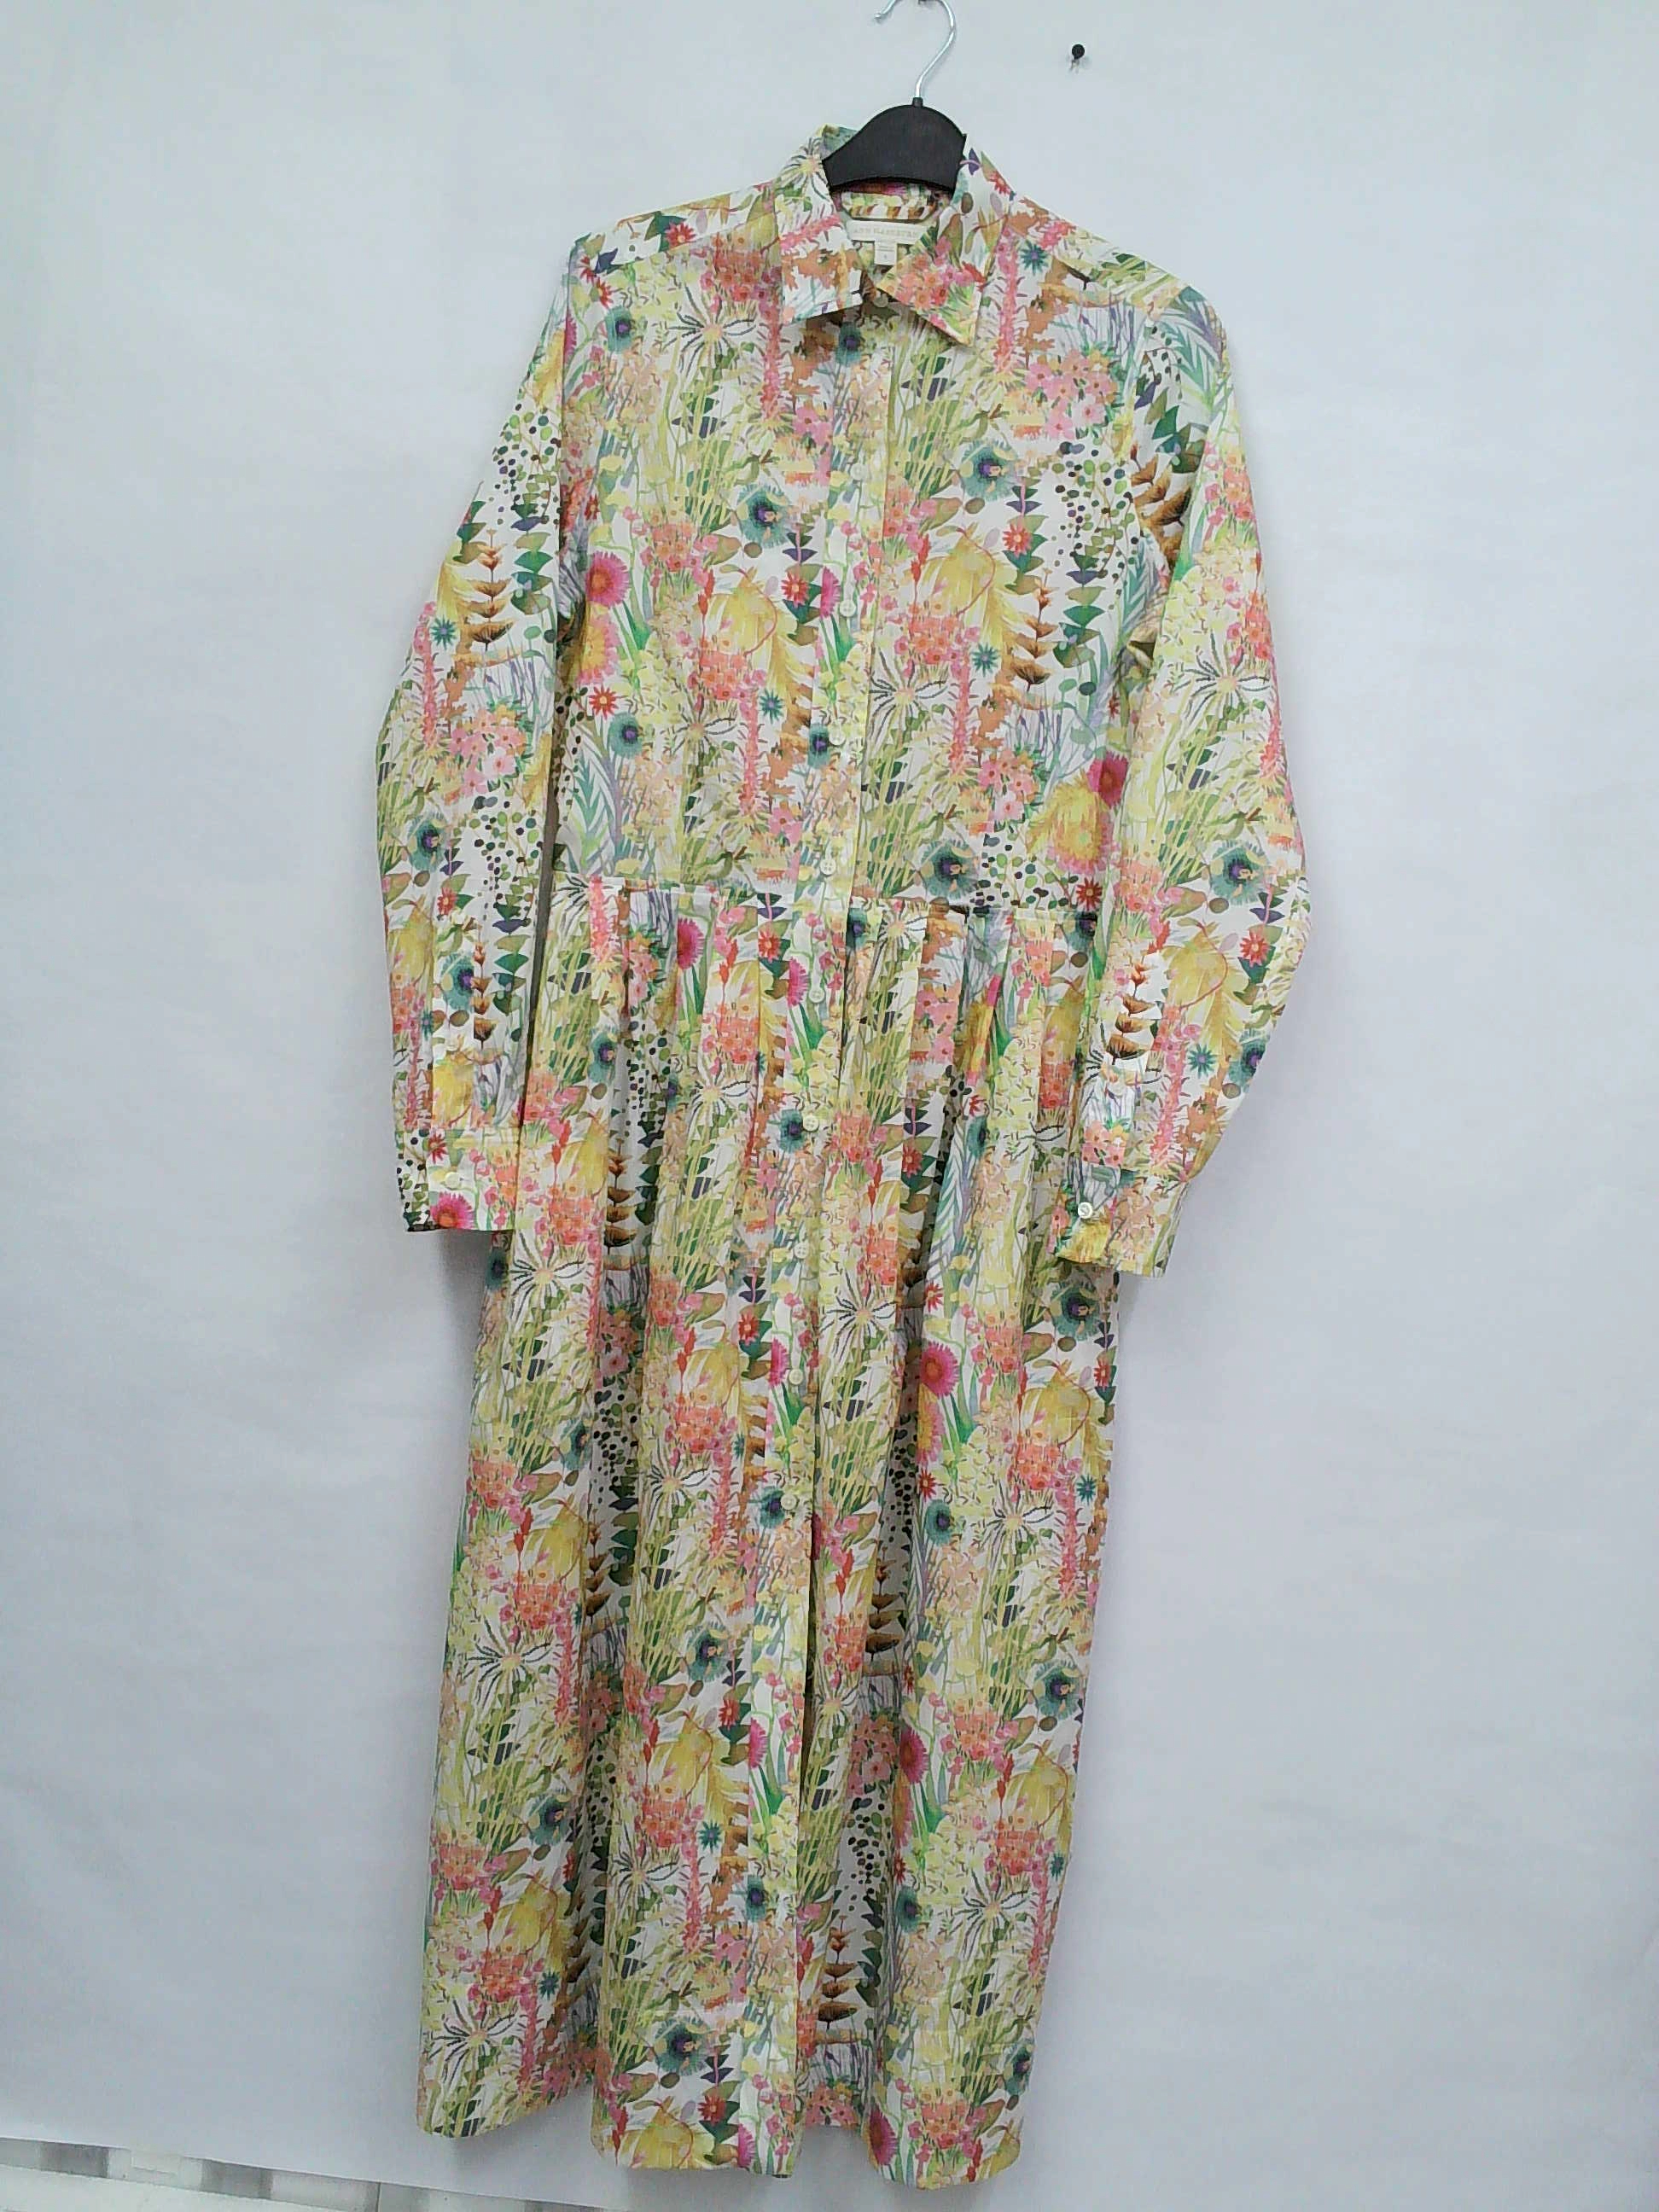seam: (680, 1952, 819, 2175)
